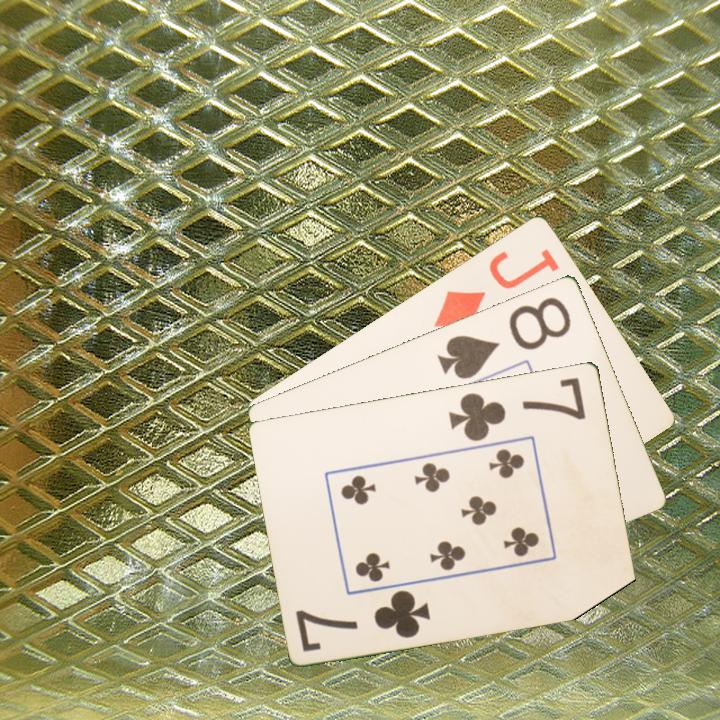7c: (445, 373, 589, 444), (292, 586, 434, 655)
8s: (434, 292, 574, 382)
Jd: (430, 244, 563, 331)
